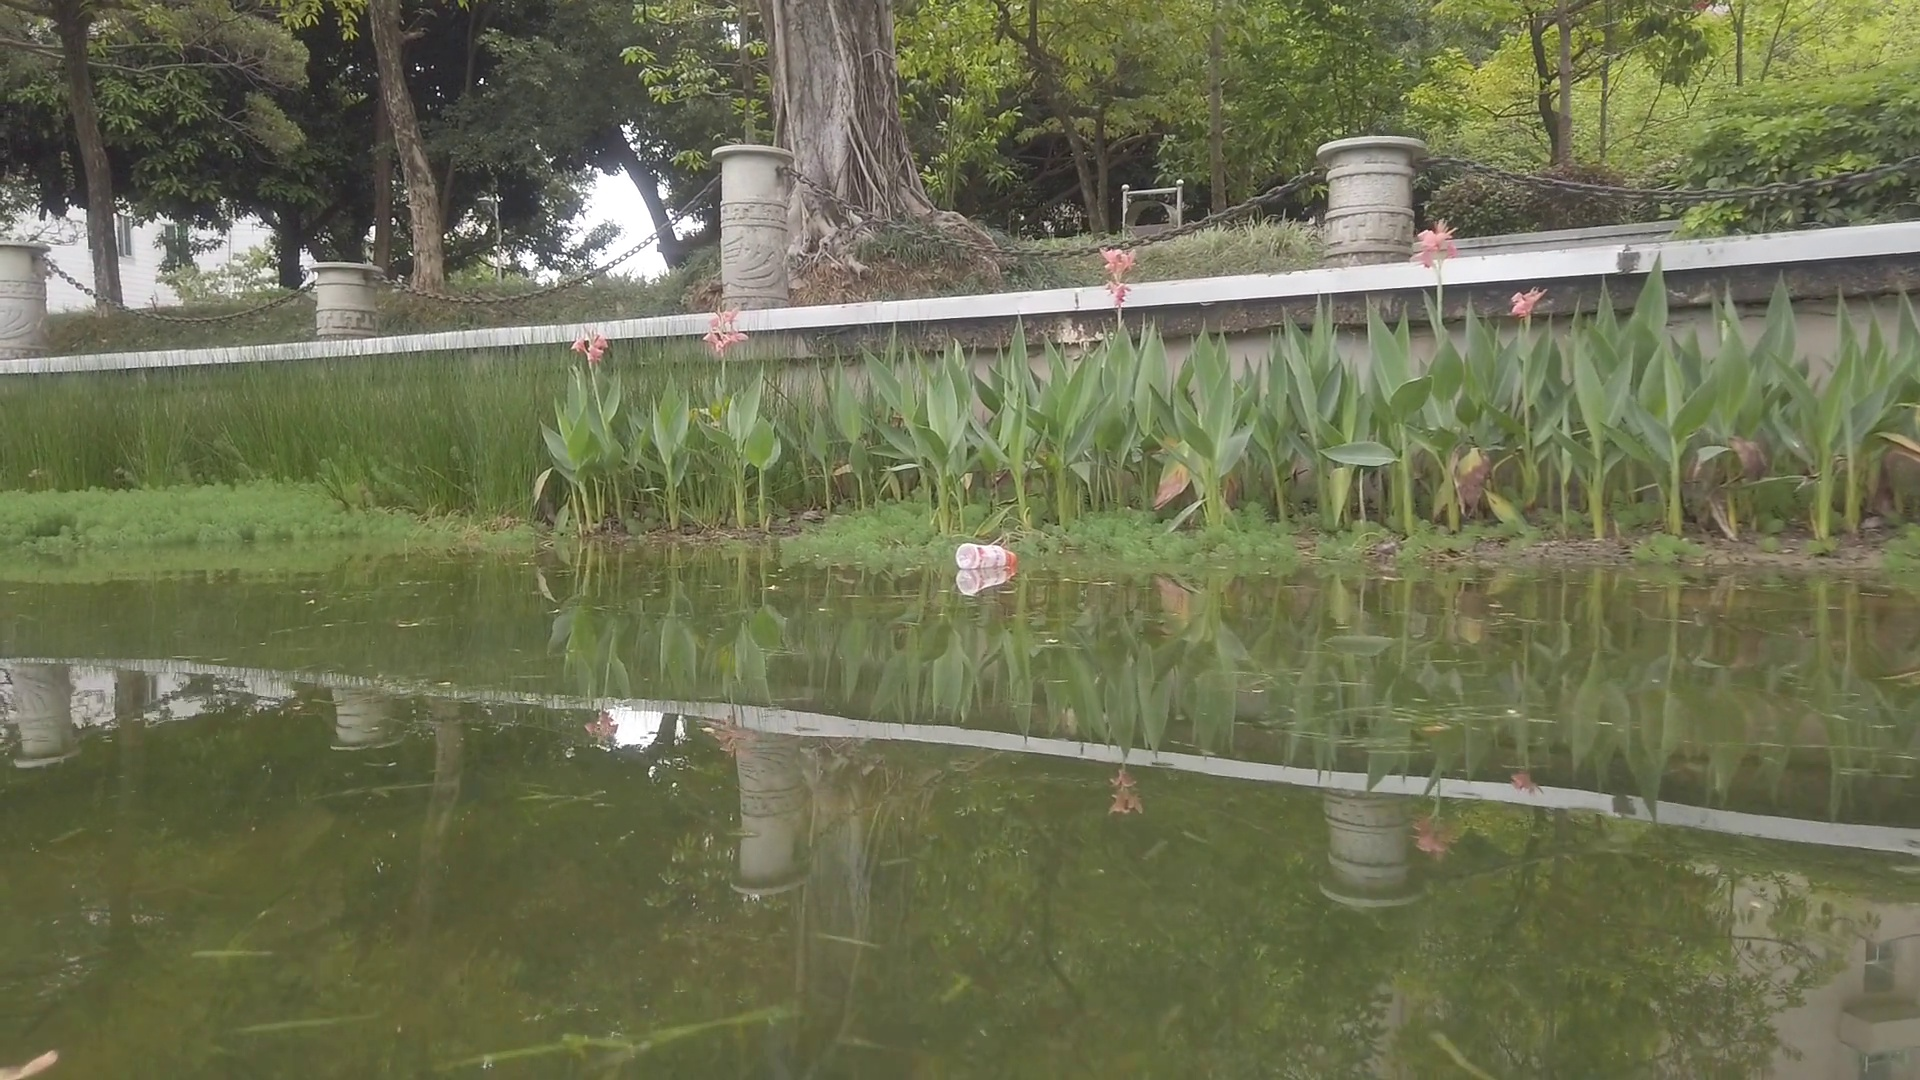bottle: (955, 545, 1015, 568)
